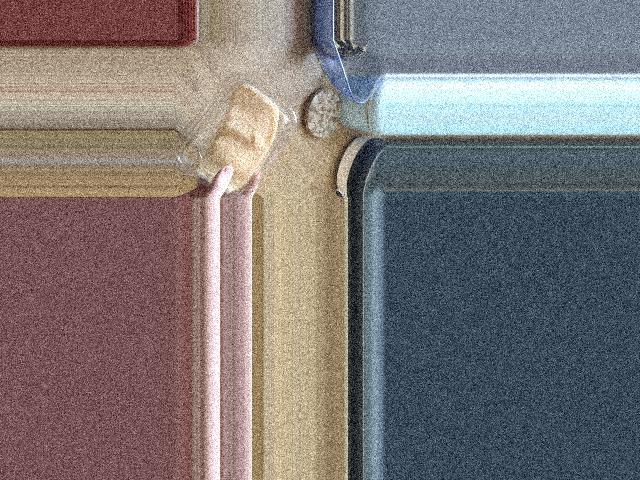cheese: (178, 59, 307, 188)
